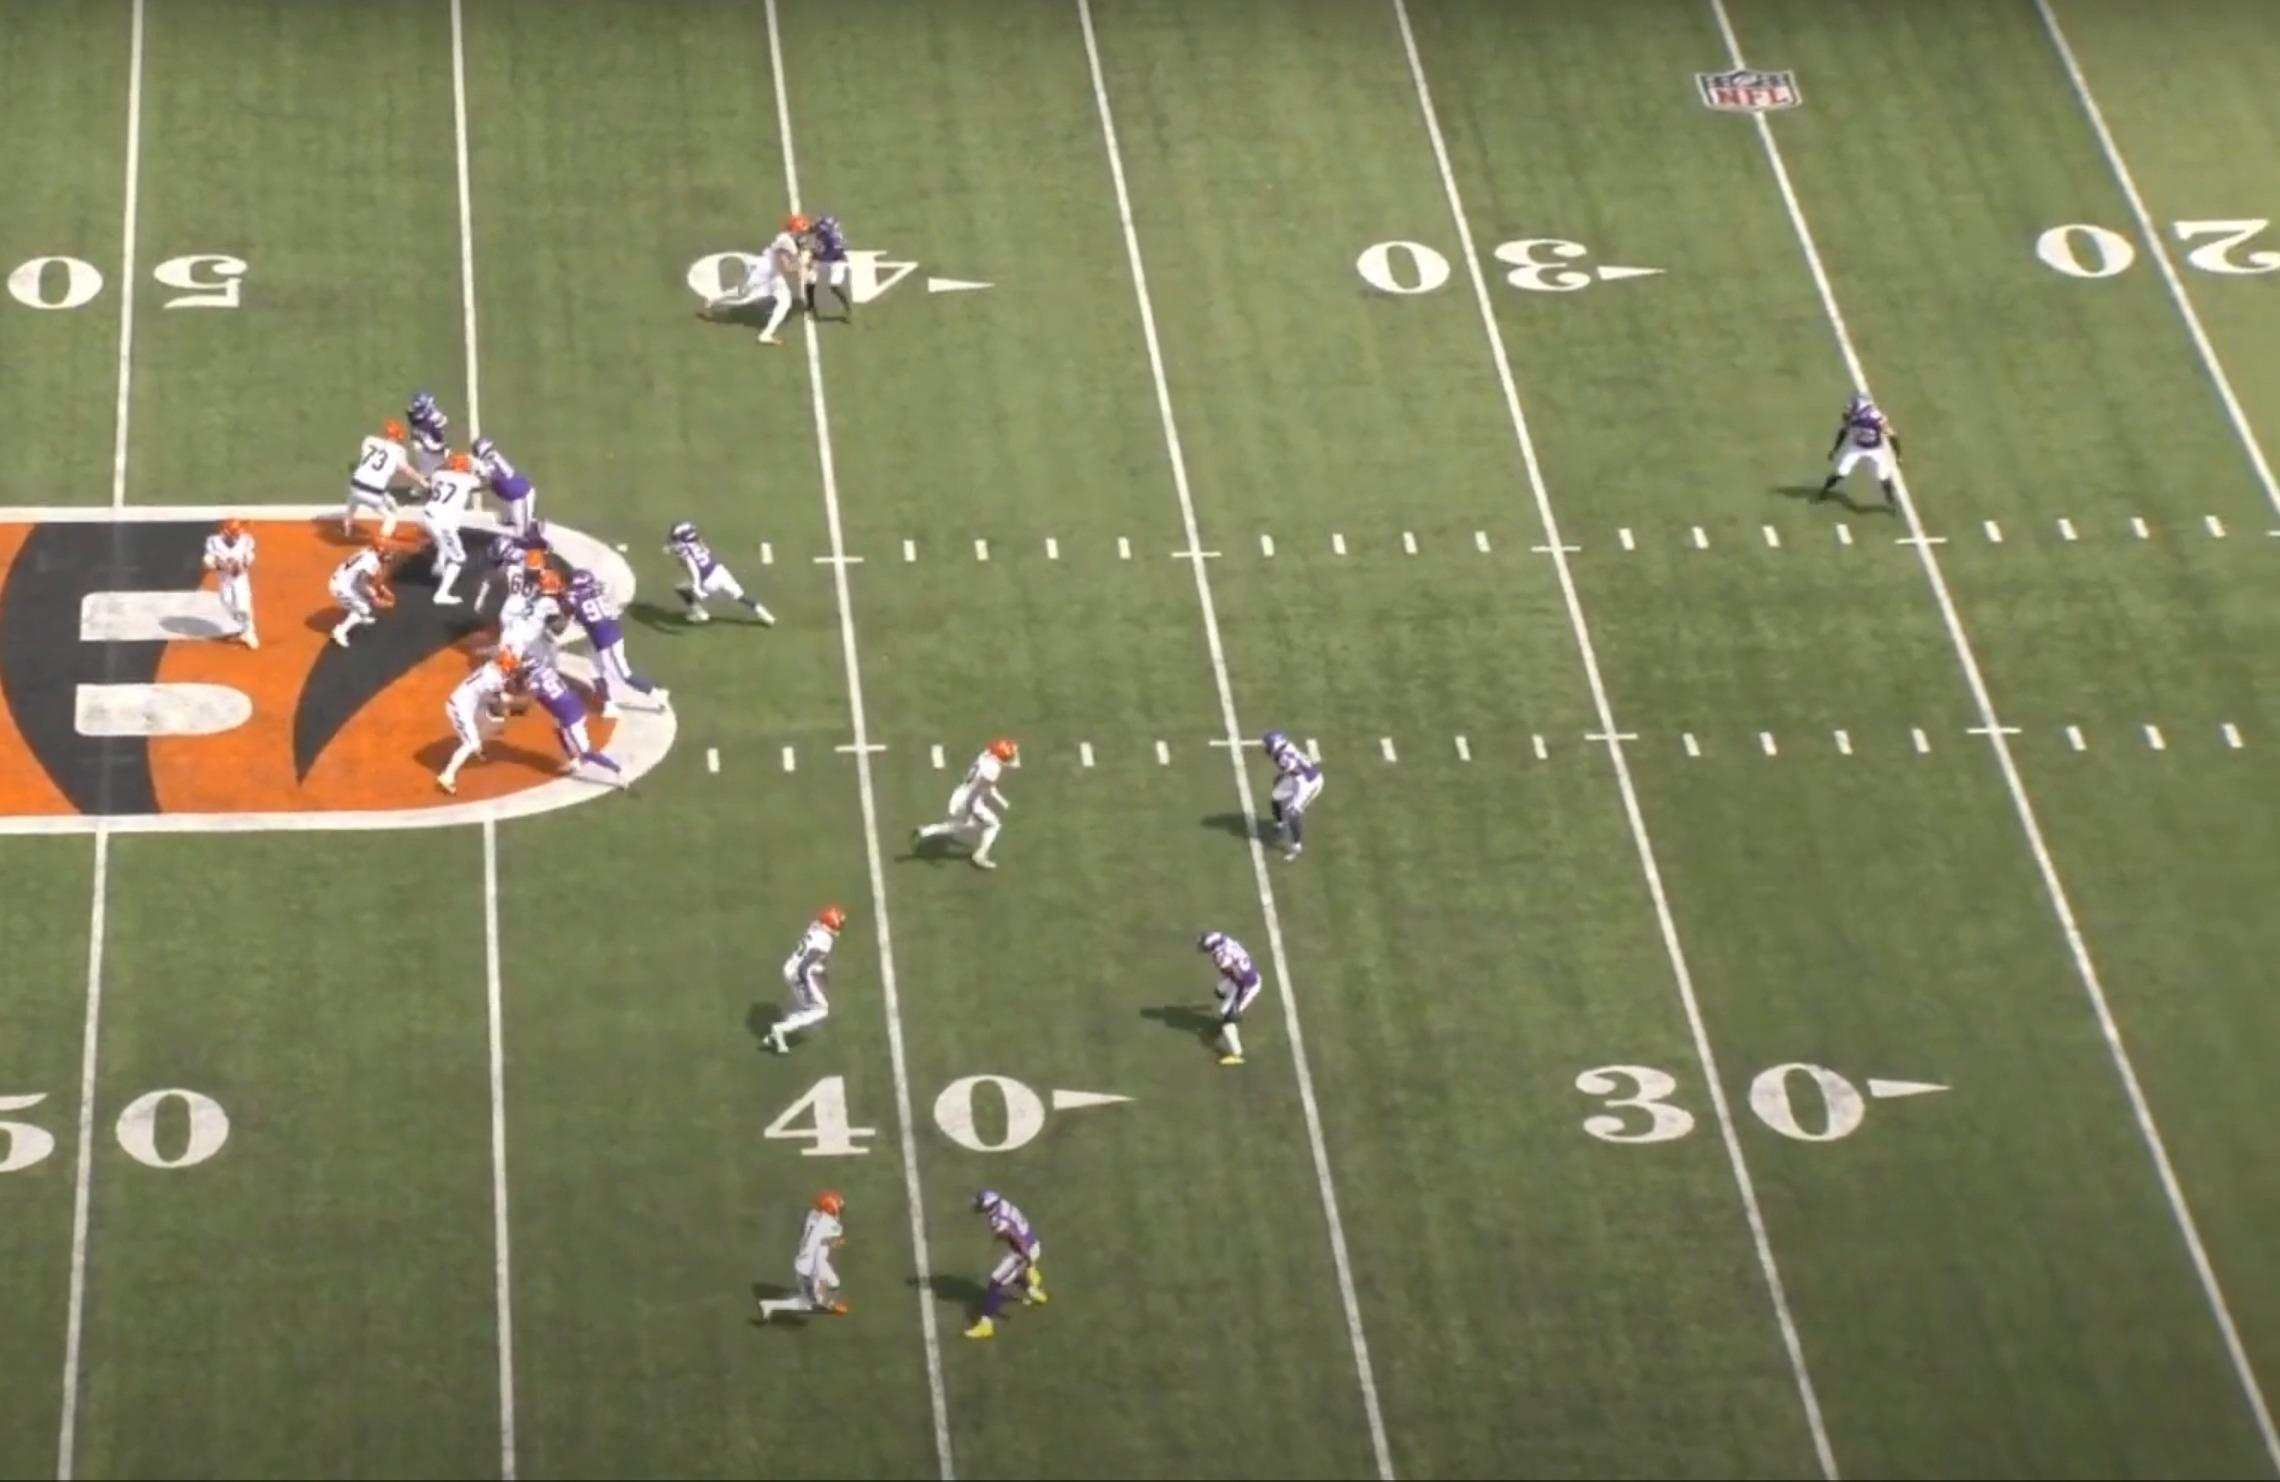defense: (552, 572, 661, 733), (959, 1178, 1052, 1341), (522, 648, 610, 801), (656, 512, 766, 633), (1810, 394, 1899, 520), (1185, 924, 1261, 1072), (1265, 714, 1336, 861), (474, 430, 540, 522), (814, 209, 859, 341), (402, 384, 450, 488), (475, 535, 530, 616)
oline: (437, 635, 522, 791), (424, 454, 494, 615), (344, 417, 407, 537), (494, 565, 572, 660), (495, 548, 548, 638)
qb: (203, 510, 269, 653)
skill: (922, 731, 1037, 876), (758, 900, 854, 1068), (753, 1180, 851, 1329), (740, 211, 818, 357), (319, 533, 404, 653)
